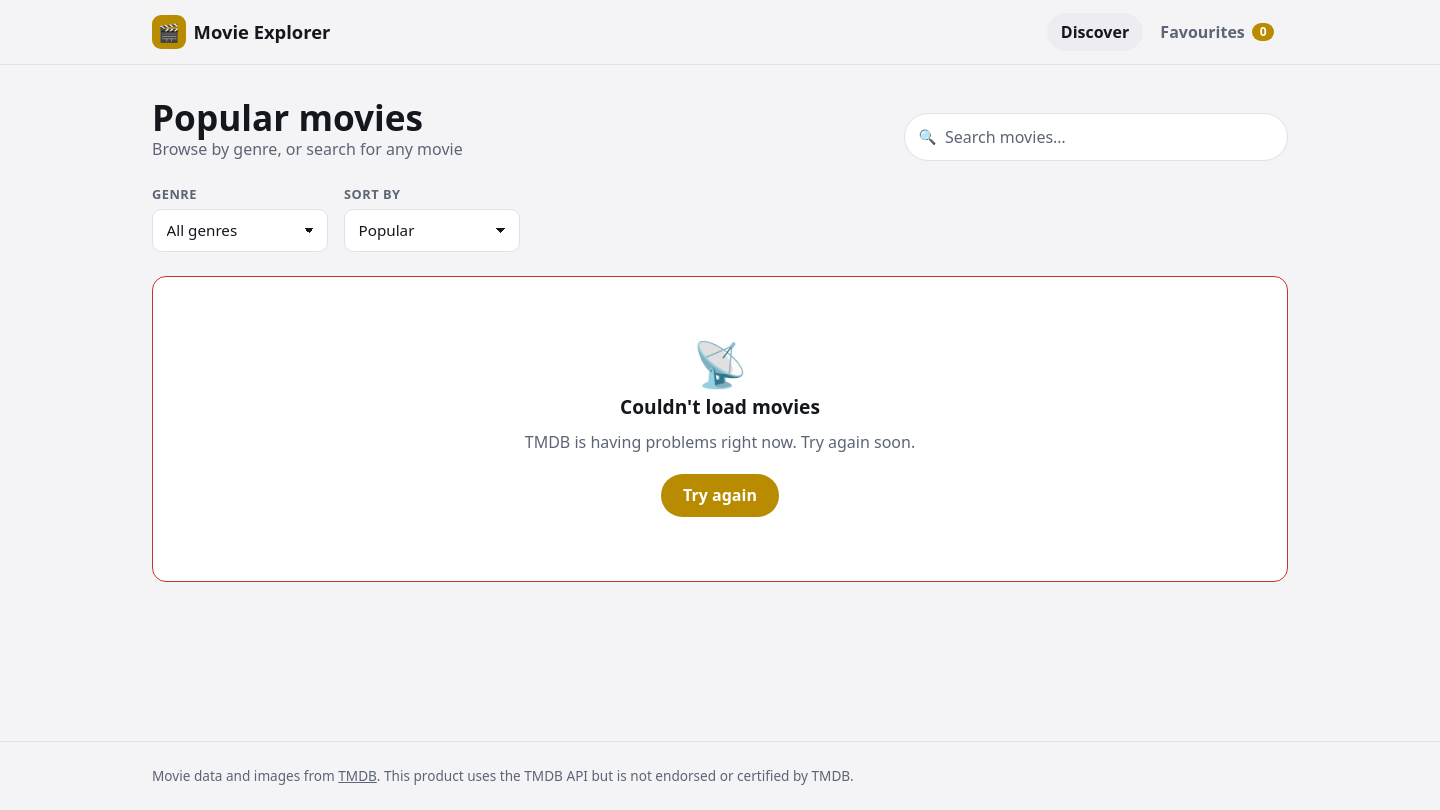
Test: browsing › explains an error, and tries again
Expected: the message shows "TMDB is having problems", [525,431,915,453]
Click the button "Try again" at (720, 495), box [661,474,779,517]
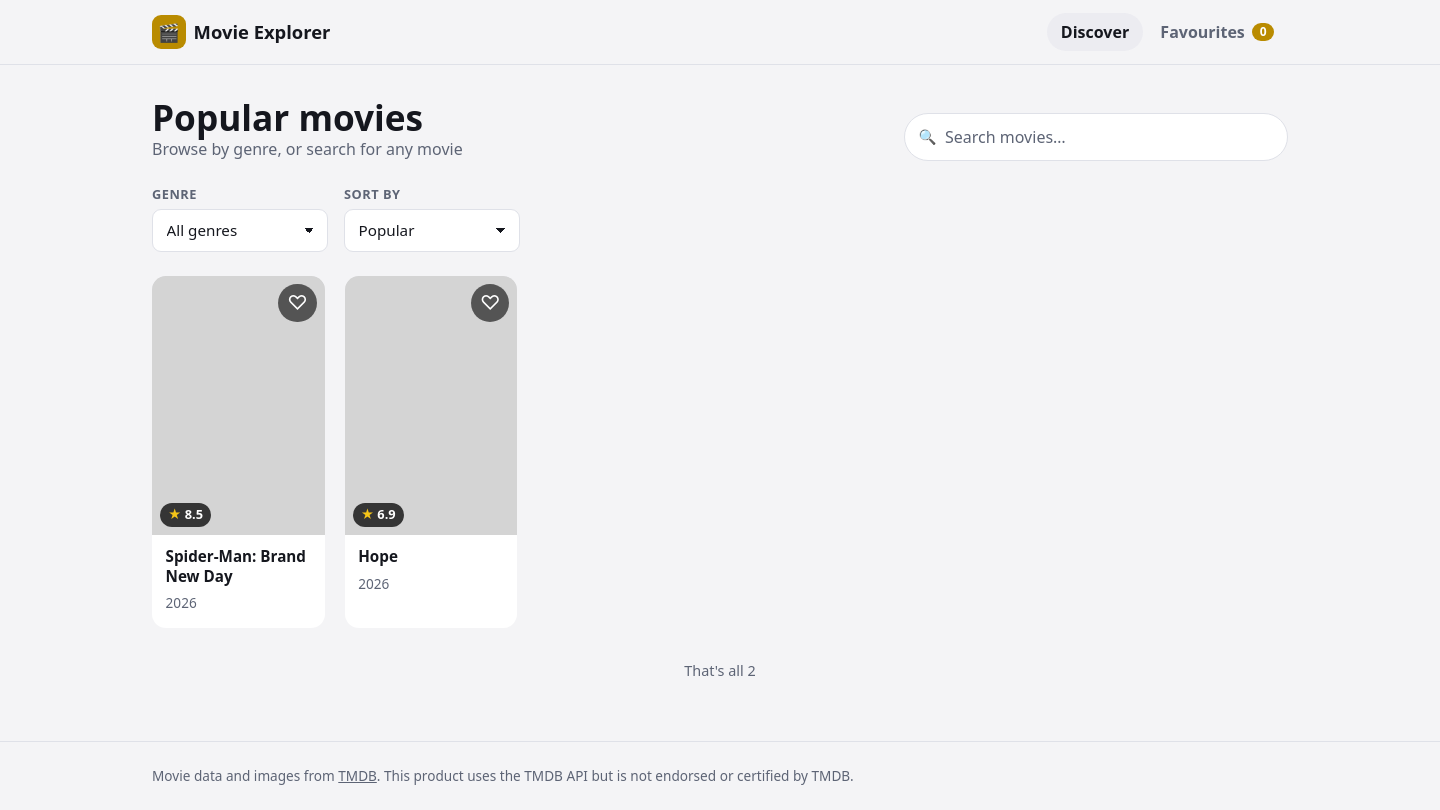
Now the heading "Hope" is shown, box [358,547,398,567]
